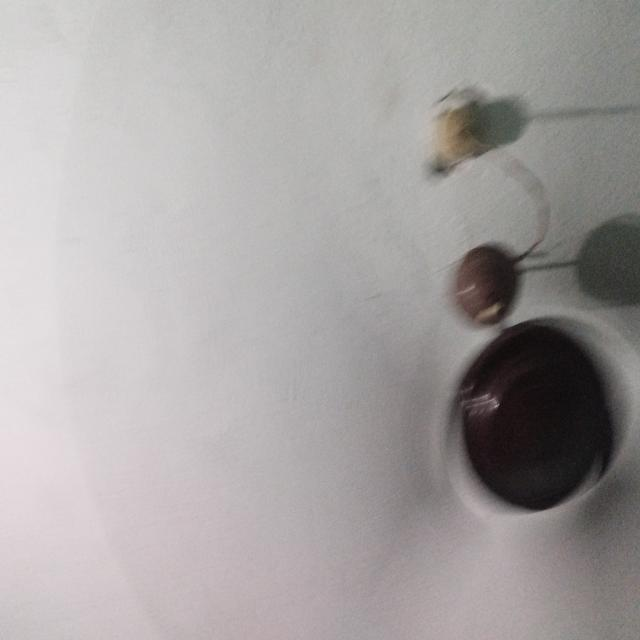fan_on: (74, 0, 640, 635)
